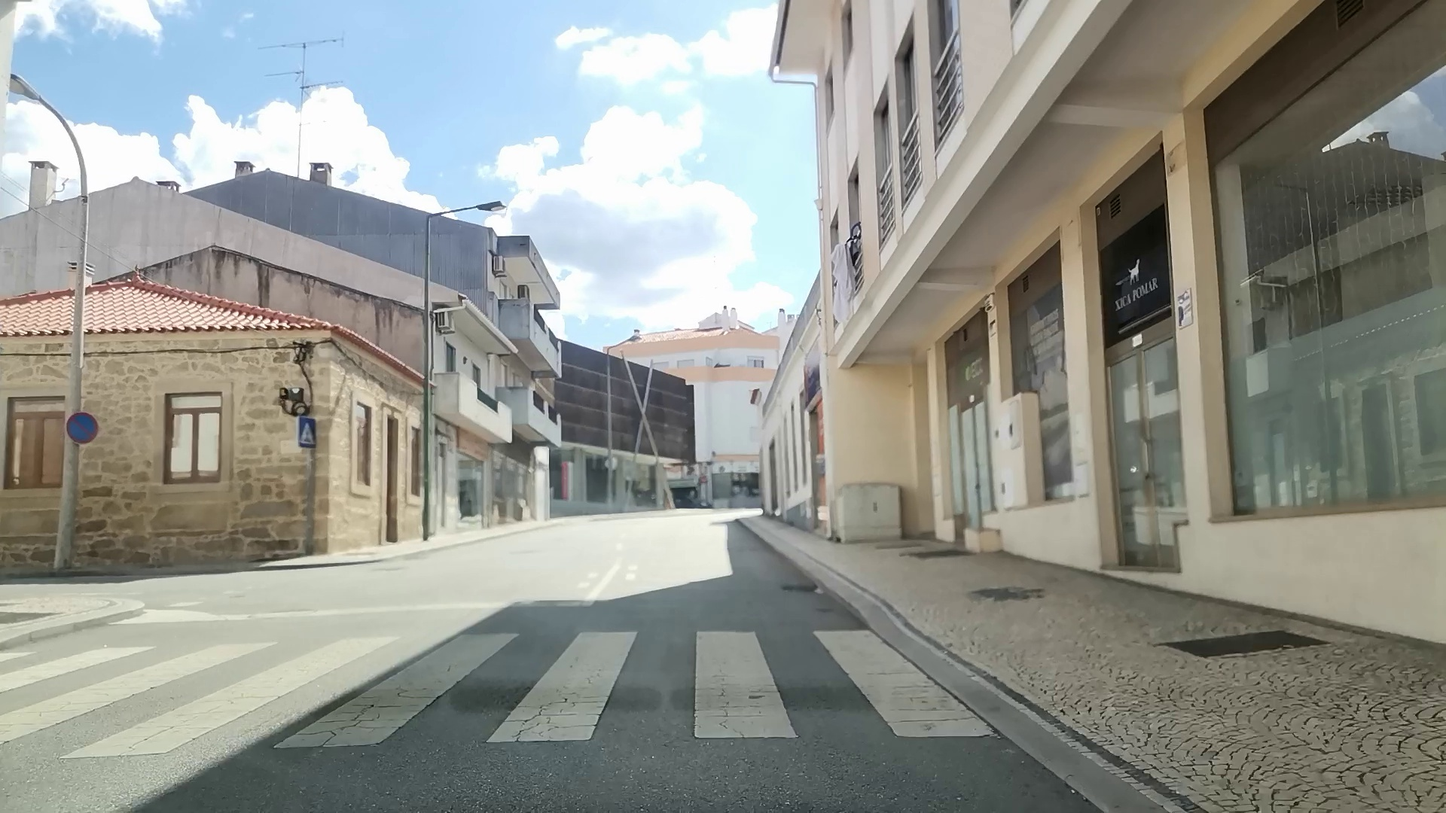Stairs: (0, 630, 1000, 757)
